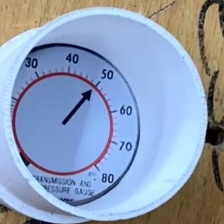gauge: (11, 46, 140, 205)
